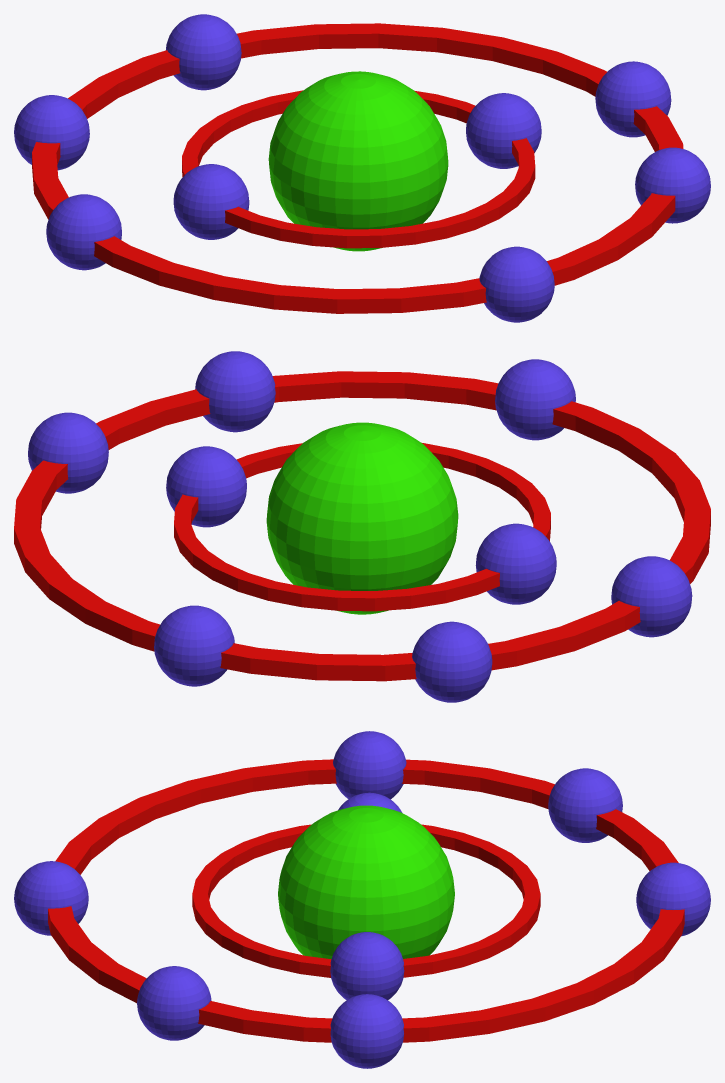
Rendered from oxygen.glb.
3 views of the same model, one above another, from view 1: azimuth 30°, elevation 25°; view 2: azimuth 150°, elevation 25°; view 3: azimuth 270°, elevation 25° (orthographic). The views are drawn at different scales.
Parts seen in each view (by area): view 1: shell2, nuc, shell1, Sphere.004, Sphere.002, Sphere.001, Sphere, Sphere.003, Sphere.005, Sphere.006, Sphere.007; view 2: shell2, nuc, shell1, Sphere.007, Sphere.002, Sphere.006, Sphere.001, Sphere.004, Sphere, Sphere.003, Sphere.005; view 3: shell2, nuc, shell1, Sphere.005, Sphere.006, Sphere, Sphere.007, Sphere.003, Sphere.004, Sphere.002, Sphere.001.
Boxes of the visible parts, <box> form: shell2: <box>32,23,683,313</box>; nuc: <box>268,71,448,251</box>; shell1: <box>182,90,535,248</box>; Sphere.004: <box>479,246,554,322</box>; Sphere.002: <box>166,14,241,90</box>; Sphere.001: <box>173,164,249,239</box>; Sphere: <box>466,93,541,168</box>; Sphere.003: <box>46,194,121,270</box>; Sphere.005: <box>595,61,671,137</box>; Sphere.006: <box>635,147,710,223</box>; Sphere.007: <box>14,95,89,170</box>; shell2: <box>14,371,710,681</box>; nuc: <box>266,422,458,614</box>; shell1: <box>174,442,550,611</box>; Sphere.007: <box>412,621,492,702</box>; Sphere.002: <box>154,605,234,686</box>; Sphere.006: <box>195,351,275,432</box>; Sphere.001: <box>475,523,556,604</box>; Sphere.004: <box>495,359,575,440</box>; Sphere: <box>166,446,246,527</box>; Sphere.003: <box>611,556,692,637</box>; Sphere.005: <box>28,412,108,493</box>; shell2: <box>48,759,684,1042</box>; nuc: <box>278,805,454,959</box>; shell1: <box>192,824,540,977</box>; Sphere.005: <box>330,994,403,1068</box>; Sphere.006: <box>137,966,211,1040</box>; Sphere: <box>330,932,404,1000</box>; Sphere.007: <box>548,768,622,842</box>; Sphere.003: <box>333,731,406,799</box>; Sphere.004: <box>14,861,88,935</box>; Sphere.002: <box>636,862,710,936</box>; Sphere.001: <box>338,792,402,812</box>.
Bounding box in the file's own units: 0.0878 × 0.0223 × 0.0878.
